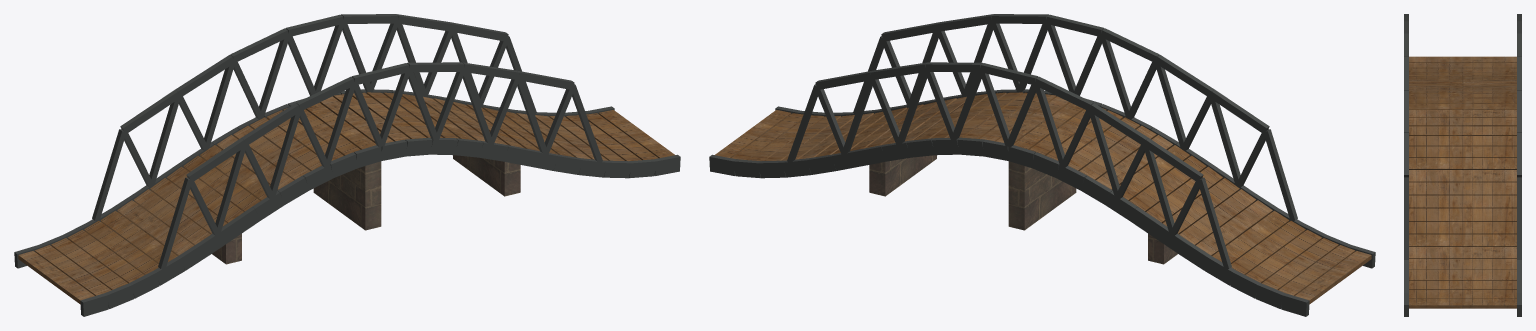
Rendered from 02 Truss Bridge.fbx.
The picture shows the model from 3 angles, left to right: view 1: azimuth 30°, elevation 25°; view 2: azimuth 150°, elevation 25°; view 3: azimuth 270°, elevation 25°; orthographic projection. The views are drawn at different scales.
Parts seen in each view (by area): view 1: SiteA_TrussBridgeRamp_deck_planks, SiteA_TrussBridgeRamp_truss_frames, SiteA_TrussBridgeRamp_side_stringers, SiteA_TrussBridgeRamp_masonry_piers; view 2: SiteA_TrussBridgeRamp_deck_planks, SiteA_TrussBridgeRamp_truss_frames, SiteA_TrussBridgeRamp_side_stringers, SiteA_TrussBridgeRamp_masonry_piers; view 3: SiteA_TrussBridgeRamp_deck_planks, SiteA_TrussBridgeRamp_truss_frames, SiteA_TrussBridgeRamp_side_stringers.
Boxes of the visible parts, x1,y1,x2,y2 form: SiteA_TrussBridgeRamp_deck_planks: [18, 92, 675, 304]; SiteA_TrussBridgeRamp_truss_frames: [92, 14, 602, 269]; SiteA_TrussBridgeRamp_side_stringers: [14, 89, 680, 316]; SiteA_TrussBridgeRamp_masonry_piers: [212, 155, 520, 264]; SiteA_TrussBridgeRamp_deck_planks: [714, 92, 1371, 304]; SiteA_TrussBridgeRamp_truss_frames: [787, 14, 1297, 269]; SiteA_TrussBridgeRamp_side_stringers: [709, 89, 1375, 316]; SiteA_TrussBridgeRamp_masonry_piers: [869, 155, 1177, 264]; SiteA_TrussBridgeRamp_deck_planks: [1409, 56, 1516, 308]; SiteA_TrussBridgeRamp_truss_frames: [1404, 14, 1521, 259]; SiteA_TrussBridgeRamp_side_stringers: [1404, 260, 1521, 316].
Size of the model in its own units: 6.01 by 1.66 by 1.2.
Materials: 3 (2 with a texture image).
